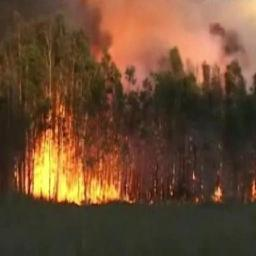Low smoke: (55, 2, 186, 85)
Medium fire: (15, 61, 140, 205)
Small fire: (207, 181, 237, 209)
